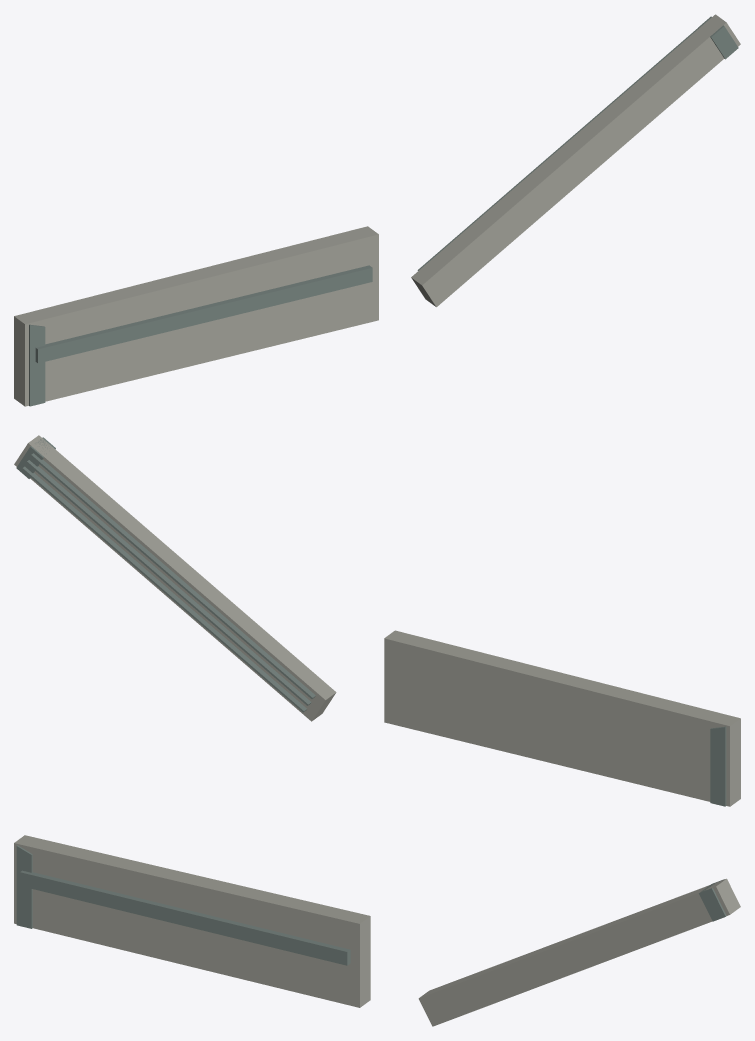
Rendered from SM_PuertaViaDoble_v4_Blindada_e2_MuyDanado_LOD1.fbx.
3 views of the same model, one above another, from view 1: azimuth 30°, elevation 25°; view 2: azimuth 150°, elevation 25°; view 3: azimuth 330°, elevation 25° (orthographic). The views are drawn at different scales.
Visible parts, largest first — view 1: Hoja_O, Hoja_E; view 2: Hoja_O, Hoja_E; view 3: Hoja_O, Hoja_E.
Part boxes in pixels (bbox=[...]): Hoja_O: bbox=[14, 226, 378, 406]; Hoja_E: bbox=[411, 14, 740, 307]; Hoja_O: bbox=[384, 630, 740, 806]; Hoja_E: bbox=[14, 435, 336, 721]; Hoja_O: bbox=[14, 835, 370, 1007]; Hoja_E: bbox=[418, 878, 740, 1026].
Size of what is drawn, in the model's own units: 7.53 by 2.13 by 0.47.
